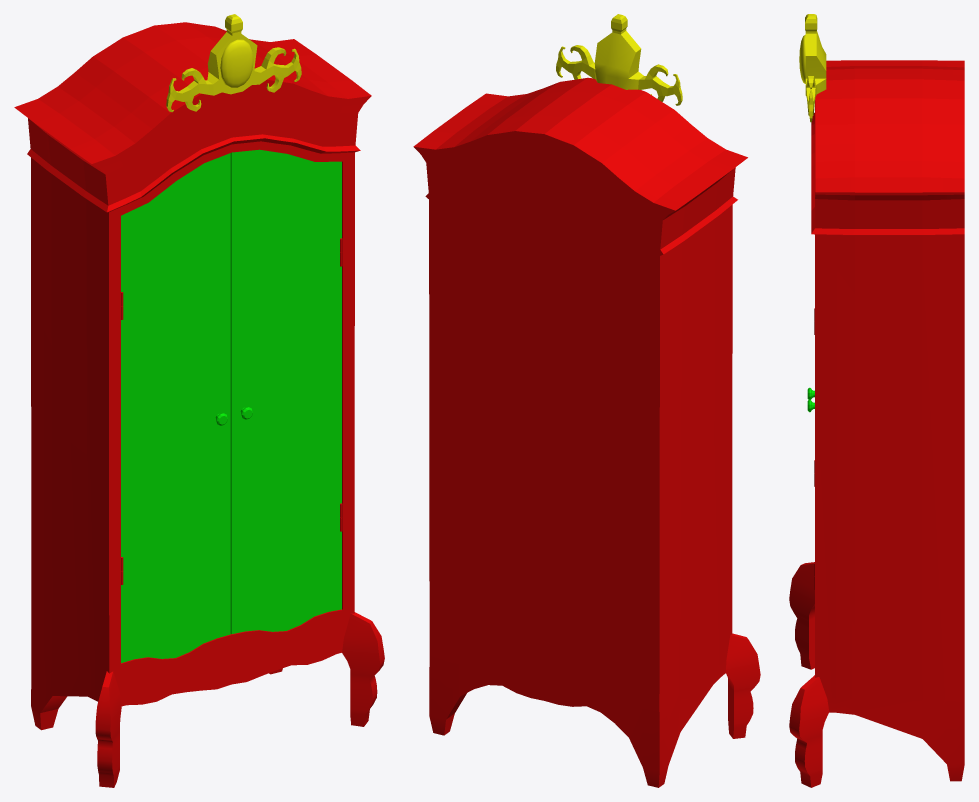
The model's file is Wardobe_low.fbx.
3 views of the same model, side by side, from view 1: azimuth 30°, elevation 25°; view 2: azimuth 150°, elevation 25°; view 3: azimuth 270°, elevation 25° (orthographic). The views are drawn at different scales.
Parts seen in each view (by area): view 1: WardrobeFrame_low, RightDoor_low, LeftDoor_low, FrontLeg_low, Decor_low, Emblem_low; view 2: WardrobeFrame_low, Decor_low, FrontLeg_low; view 3: WardrobeFrame_low, FrontLeg_low, Decor_low.
Boxes of the visible parts, bbox=[...] form: WardrobeFrame_low: bbox=[14, 22, 371, 730]; RightDoor_low: bbox=[230, 149, 341, 634]; LeftDoor_low: bbox=[121, 153, 230, 662]; FrontLeg_low: bbox=[95, 612, 384, 787]; Decor_low: bbox=[166, 14, 301, 112]; Emblem_low: bbox=[220, 39, 253, 87]; WardrobeFrame_low: bbox=[413, 77, 747, 787]; Decor_low: bbox=[556, 14, 682, 105]; FrontLeg_low: bbox=[725, 633, 760, 738]; WardrobeFrame_low: bbox=[811, 60, 964, 781]; FrontLeg_low: bbox=[789, 562, 829, 787]; Decor_low: bbox=[805, 14, 826, 122].
Bounding box in the file's own units: 7.69 × 18.74 × 4.2.
